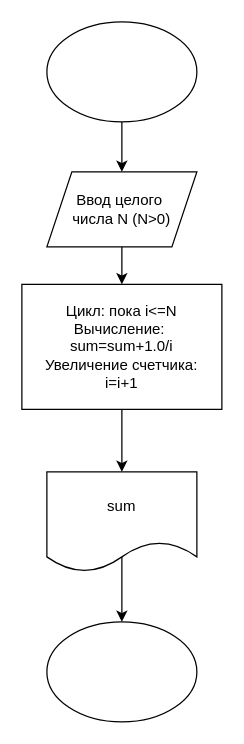
Image size: 244x744. Some labels were removed from this diagram. The shapes that lost their labels are listed below. From the top down, each one's box as (x1, y1, x2, y2) in pixels, then its label:
(46, 21, 197, 122): Начало
(46, 621, 197, 722): Конец
